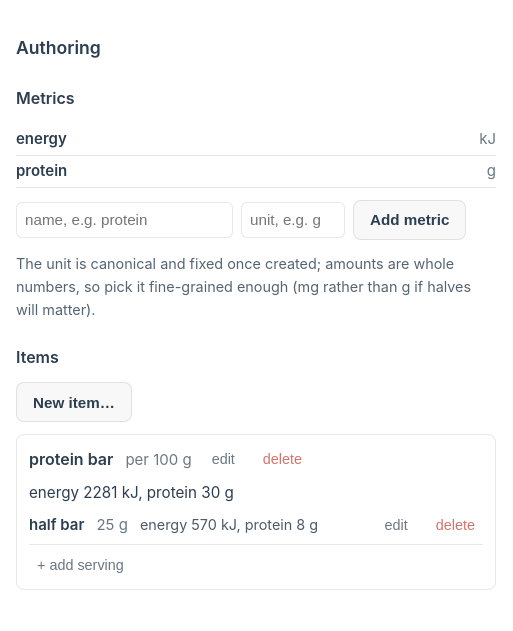
Test: AuthoringView › surfaces the server reason when creating a metric conflicts
Type "energy" into the field with test id "metric-name" showing "name, e.g. protein" at [124, 220], box [16, 202, 233, 238]
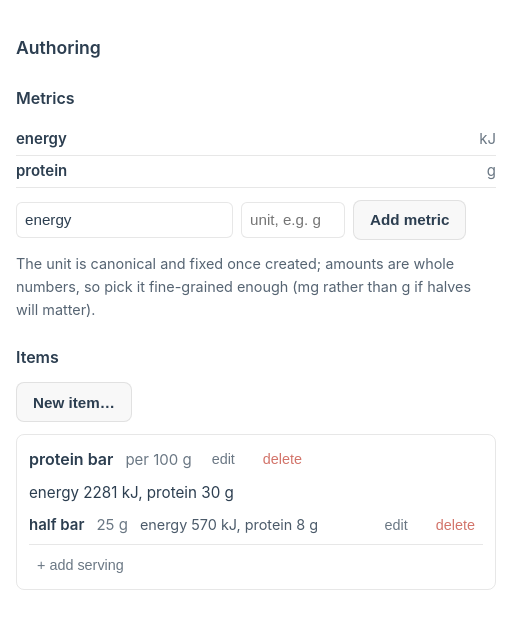
Type "kJ" into the field with test id "metric-unit" showing "unit, e.g. g" at [293, 220], box [241, 202, 345, 238]
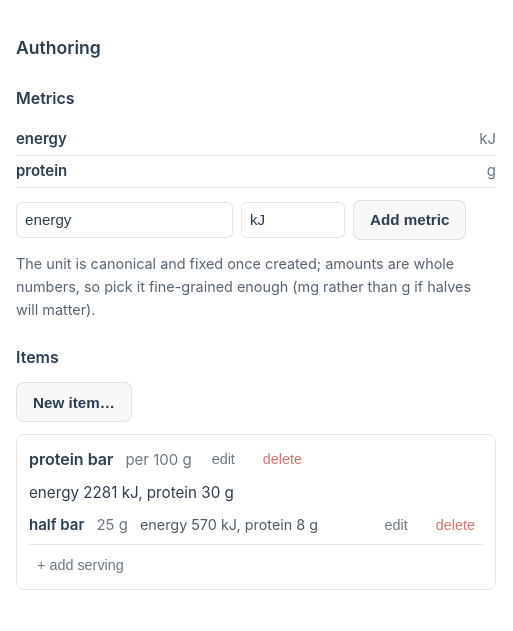
Submit the form, box [16, 200, 496, 240]
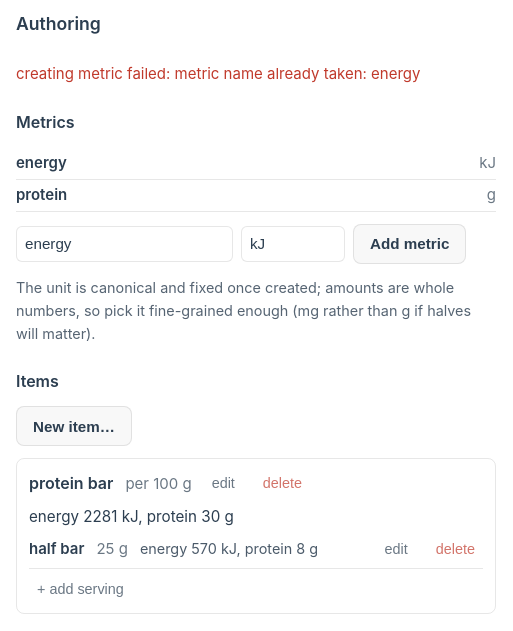
Expected: the text "creating metric failed: metric name already taken: energy" is shown, [16, 64, 420, 83]
